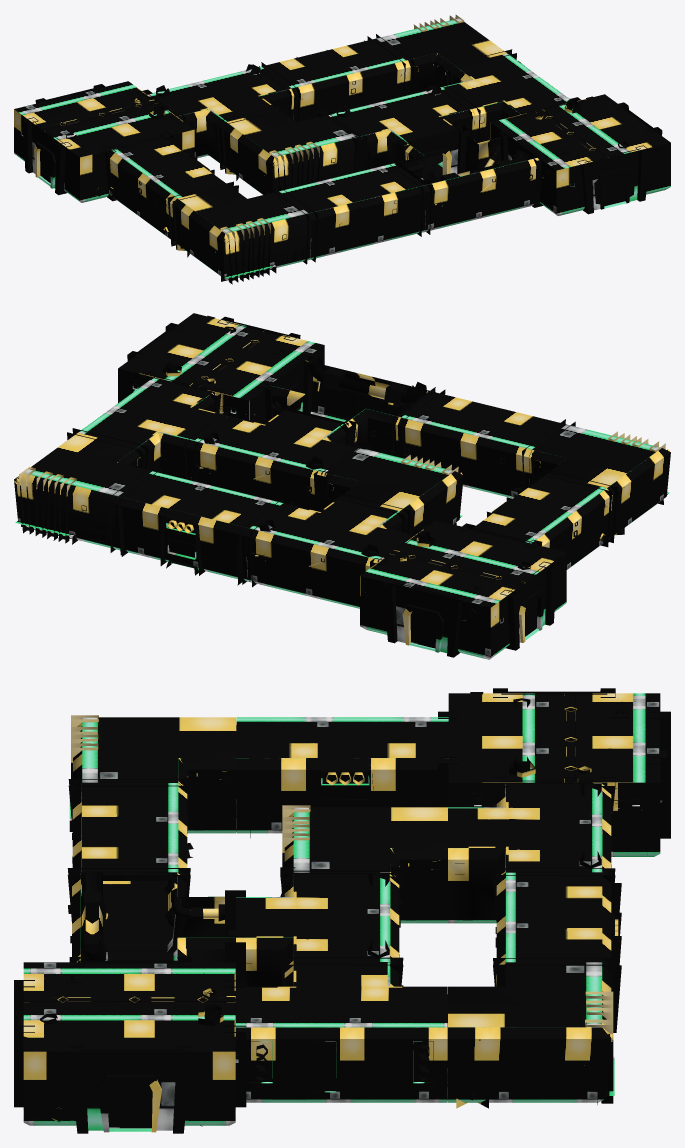
File: Combined_Mesh_root_scene__2_ff295a5e__zombies2_diffuse_12_078cf75e_c1f257.obj
3 renders of one model, top to bottom at view 1: azimuth 30°, elevation 25°; view 2: azimuth 150°, elevation 25°; view 3: azimuth 270°, elevation 25°, orthographic. The views are drawn at different scales.
Bounding box in the file's own units: 81.96 × 9.64 × 62.02.
180 materials, 180 textured.
